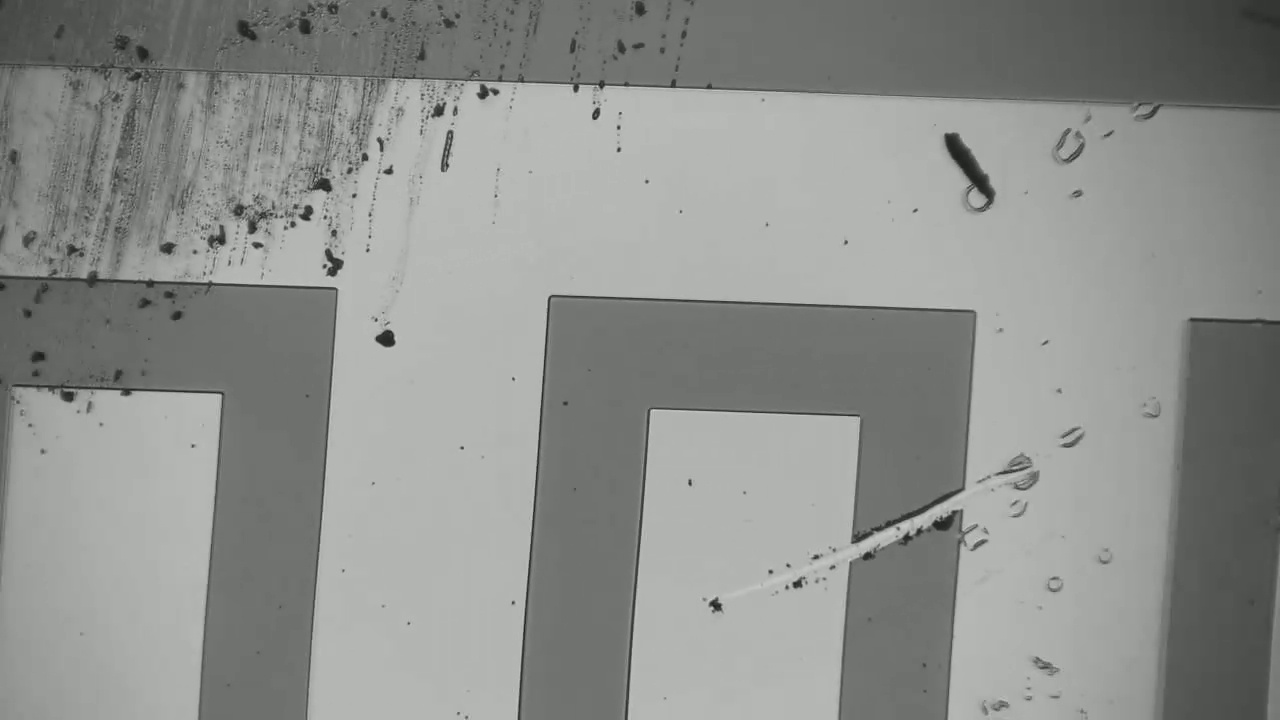Short_circuit: (820, 445, 990, 602)
